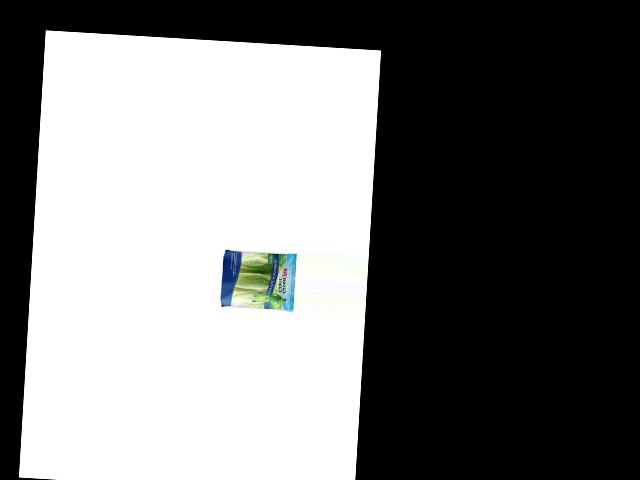lettuce: (217, 248, 293, 313)
